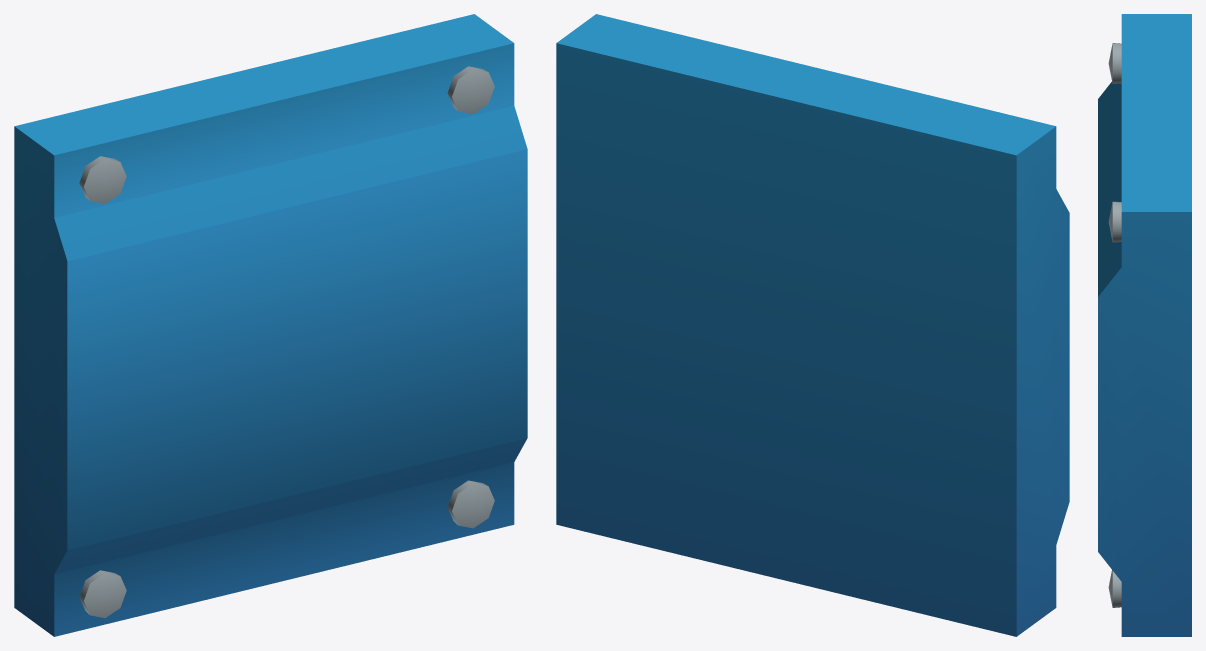
Rendered from kaykit_bracing_large_blue.glb.
3 views of the same model, side by side, from view 1: azimuth 30°, elevation 25°; view 2: azimuth 150°, elevation 25°; view 3: azimuth 270°, elevation 25° (orthographic). The views are drawn at different scales.
Parts seen in each view (by area): view 1: bracing_large_blue_visual; view 2: bracing_large_blue_visual; view 3: bracing_large_blue_visual.
Boxes of the visible parts, x1,y1,x2,y2 form: bracing_large_blue_visual: (14, 14, 527, 636); bracing_large_blue_visual: (556, 14, 1069, 636); bracing_large_blue_visual: (1098, 14, 1191, 636).
Size of what is drawn, in the model's own units: 1 by 1 by 0.2.
1 material, 1 textured.
